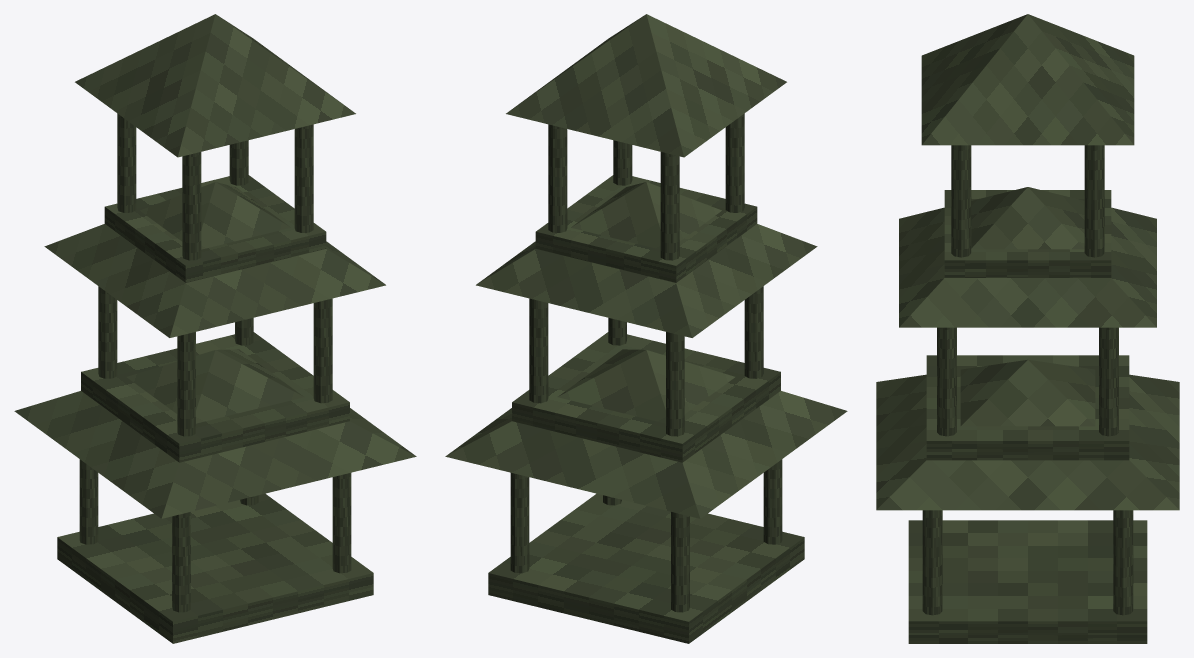
File: pagoda_18.glb
3 views of the same model, side by side, from view 1: azimuth 30°, elevation 25°; view 2: azimuth 150°, elevation 25°; view 3: azimuth 270°, elevation 25° (orthographic). The views are drawn at different scales.
Parts seen in each view (by area): view 1: Roof, Floor, Roof.001, Roof.002, Floor.001, Floor.002, Column.008, Column.010, Column.006, Column.002, Column.004, Column (+4 smaller); view 2: Roof, Floor, Roof.001, Roof.002, Floor.001, Floor.002, Column.009, Column.011, Column.007, Column.003, Column.005, Column.001 (+4 smaller); view 3: Roof, Floor, Roof.001, Roof.002, Floor.001, Floor.002, Column.010, Column.011, Column.002, Column.003, Column.006, Column.007.
Boxes of the visible parts, x1,y1,x2,y2 form: Roof: (14, 349, 416, 518); Floor: (57, 493, 373, 643); Roof.001: (44, 182, 385, 337); Roof.002: (75, 14, 355, 157); Floor.001: (81, 332, 349, 462); Floor.002: (104, 175, 326, 282); Column.008: (182, 152, 201, 260); Column.010: (294, 124, 313, 232); Column.006: (313, 298, 332, 403); Column.002: (332, 473, 351, 573); Column.004: (177, 332, 195, 436); Column: (172, 512, 190, 612); Roof: (445, 349, 847, 518); Floor: (488, 493, 804, 643); Roof.001: (476, 182, 817, 337); Roof.002: (506, 14, 786, 157); Floor.001: (512, 332, 780, 462); Floor.002: (535, 175, 757, 282); Column.009: (660, 152, 679, 260); Column.011: (548, 124, 567, 232); Column.007: (529, 298, 548, 403); Column.003: (510, 473, 529, 573); Column.005: (666, 332, 684, 436); Column.001: (671, 512, 689, 612); Roof: (876, 359, 1179, 510); Floor: (908, 520, 1147, 643); Roof.001: (899, 187, 1156, 327); Roof.002: (921, 14, 1134, 145); Floor.001: (926, 355, 1129, 460); Floor.002: (944, 190, 1111, 277); Column.010: (951, 145, 971, 257); Column.011: (1084, 145, 1104, 257); Column.002: (922, 510, 942, 615); Column.003: (1113, 510, 1133, 615); Column.006: (937, 327, 956, 436); Column.007: (1099, 327, 1118, 436).
Size of the model in its own units: 3.63 by 7.64 by 3.63.
Materials: 1 (1 with a texture image).
